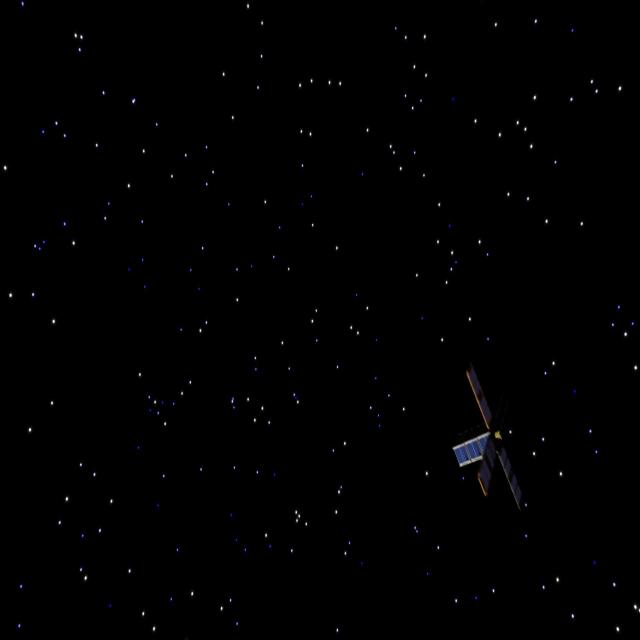medium_debris: (452, 356, 529, 516)
